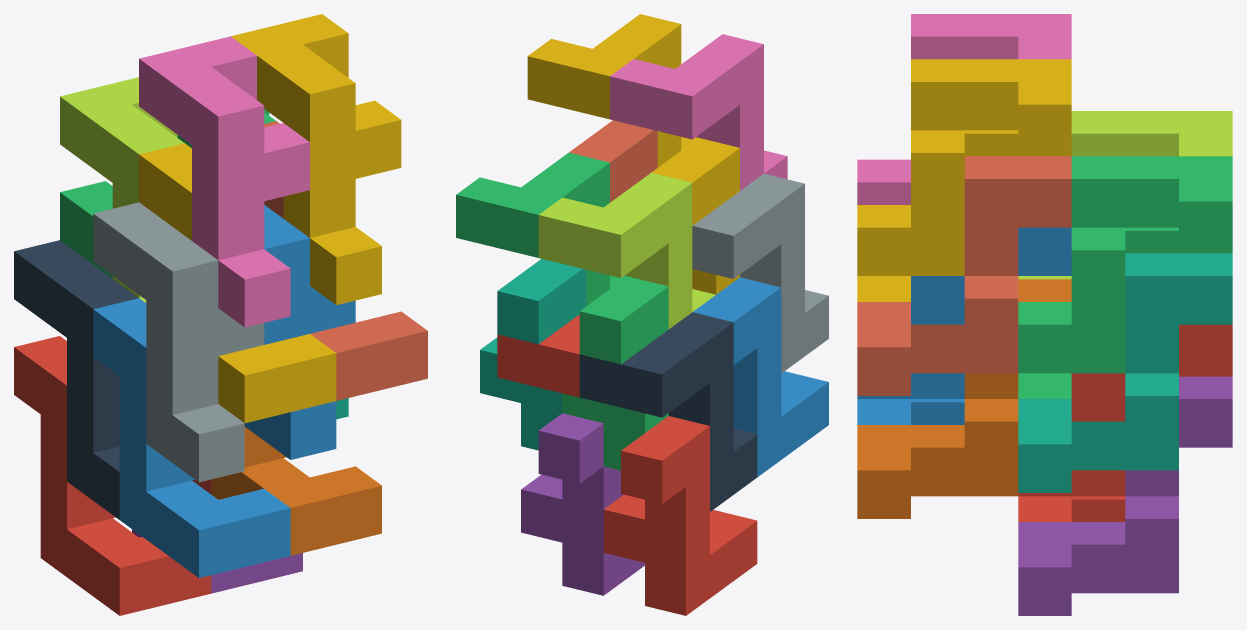
File: tiling.obj
The picture shows the model from 3 angles, left to right: view 1: azimuth 30°, elevation 25°; view 2: azimuth 150°, elevation 25°; view 3: azimuth 270°, elevation 25°; orthographic projection. The views are drawn at different scales.
Parts seen in each view (by area): view 1: copy_2_domain_4, copy_2_domain_2, copy_2_domain_8, copy_1_domain_2, copy_1_domain_1, copy_2_domain_1, copy_1_domain_4, copy_1_domain_6, copy_2_domain_6, copy_2_domain_3, copy_1_domain_8, copy_1_domain_3 (+1 smaller); view 2: copy_1_domain_1, copy_2_domain_1, copy_2_domain_4, copy_2_domain_3, copy_2_domain_2, copy_1_domain_5, copy_1_domain_2, copy_2_domain_8, copy_2_domain_7, copy_1_domain_7, copy_1_domain_3, copy_1_domain_4 (+2 smaller); view 3: copy_2_domain_7, copy_2_domain_8, copy_1_domain_8, copy_1_domain_7, copy_1_domain_5, copy_1_domain_6, copy_2_domain_4, copy_2_domain_3, copy_2_domain_5, copy_2_domain_6, copy_1_domain_4, copy_1_domain_3 (+2 smaller).
Boxes of the visible parts, x1,y1,x2,y2 form: copy_2_domain_4: (139, 36, 309, 327); copy_2_domain_2: (93, 202, 264, 482); copy_2_domain_8: (231, 14, 401, 304); copy_1_domain_2: (93, 298, 290, 577); copy_1_domain_1: (14, 336, 211, 615); copy_2_domain_1: (14, 240, 138, 519); copy_1_domain_4: (139, 143, 336, 423); copy_1_domain_6: (211, 427, 381, 555); copy_2_domain_6: (244, 205, 355, 459); copy_2_domain_3: (60, 77, 184, 302); copy_1_domain_8: (264, 121, 427, 400); copy_1_domain_3: (60, 181, 112, 278); copy_1_domain_1: (603, 416, 757, 615); copy_2_domain_1: (579, 312, 757, 511); copy_2_domain_4: (610, 34, 787, 190); copy_2_domain_3: (538, 172, 715, 328); copy_2_domain_2: (692, 173, 828, 373); copy_1_domain_5: (521, 413, 644, 595); copy_1_domain_2: (692, 277, 828, 477); copy_2_domain_8: (527, 14, 698, 167); copy_2_domain_7: (456, 152, 626, 305); copy_1_domain_7: (480, 259, 586, 450); copy_1_domain_3: (562, 276, 668, 470); copy_1_domain_4: (651, 138, 739, 294); copy_2_domain_7: (1018, 156, 1232, 373); copy_2_domain_8: (857, 59, 1071, 275); copy_1_domain_8: (857, 156, 1071, 395); copy_1_domain_7: (1018, 253, 1232, 492); copy_1_domain_5: (1018, 376, 1232, 615); copy_1_domain_6: (857, 279, 1071, 518); copy_2_domain_4: (857, 14, 1071, 204); copy_2_domain_3: (1018, 111, 1232, 279); copy_2_domain_5: (1018, 324, 1232, 496); copy_2_domain_6: (857, 227, 1071, 398); copy_1_domain_4: (857, 130, 1071, 301); copy_1_domain_3: (1018, 227, 1232, 398).
Size of the model in its own units: 5 by 11 by 7.
